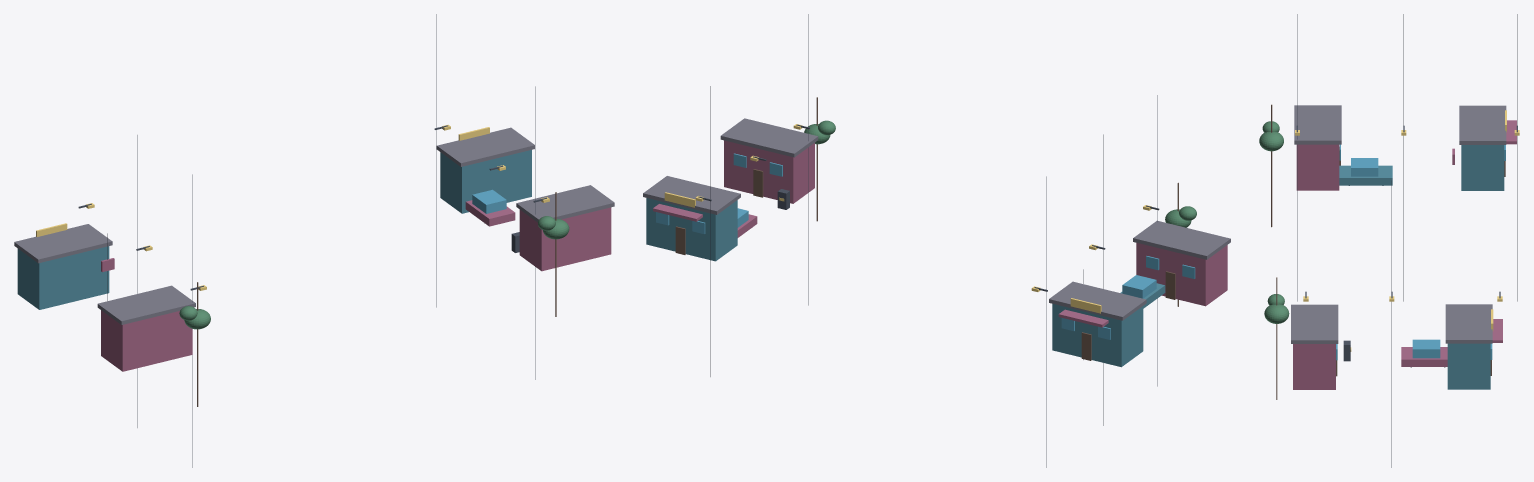
File: yun_street_block_noche_v1.glb
3 views of the same model, side by side, from view 1: azimuth 30°, elevation 25°; view 2: azimuth 150°, elevation 25°; view 3: azimuth 270°, elevation 25° (orthographic). The views are drawn at different scales.
Parts seen in each view (by area): view 1: noche_shop_left__body, noche_build_left__body, noche_build_right__body, noche_shop_right__body, noche_shop_left__roof, noche_shop_right__roof, noche_build_left__roof, noche_build_right__roof, noche_car_right__chassis, noche_car_right__cabin; view 2: noche_build_right__body, noche_shop_right__body, noche_shop_left__body, noche_build_left__body, noche_build_right__roof, noche_build_left__roof, noche_shop_left__roof, noche_shop_right__roof, noche_car_left__cabin; view 3: noche_shop_right__body, noche_build_left__body, noche_shop_left__body, noche_build_right__body, noche_build_right__roof, noche_build_left__roof, noche_shop_right__roof, noche_shop_left__roof, noche_car_left__chassis, noche_car_right__chassis, noche_car_right__cabin, noche_car_left__cabin (+2 smaller).
Part boxes in pixels (<box>): noche_shop_left__body: <box>17,246,109,309</box>; noche_build_left__body: <box>101,310,192,371</box>; noche_build_right__body: <box>519,207,611,271</box>; noche_shop_right__body: <box>440,150,531,213</box>; noche_shop_left__roof: <box>14,224,112,263</box>; noche_shop_right__roof: <box>436,127,534,166</box>; noche_build_left__roof: <box>97,285,195,324</box>; noche_build_right__roof: <box>516,185,614,222</box>; noche_car_right__chassis: <box>465,200,515,226</box>; noche_car_right__cabin: <box>472,189,506,213</box>; noche_build_right__body: <box>724,140,814,203</box>; noche_shop_right__body: <box>646,198,737,261</box>; noche_shop_left__body: <box>1052,303,1143,367</box>; noche_build_left__body: <box>1136,242,1227,306</box>; noche_build_right__roof: <box>720,118,818,157</box>; noche_build_left__roof: <box>1133,220,1230,259</box>; noche_shop_left__roof: <box>1049,281,1146,320</box>; noche_shop_right__roof: <box>643,176,740,214</box>; noche_car_left__cabin: <box>1122,275,1156,298</box>; noche_shop_right__body: <box>1447,343,1490,389</box>; noche_build_left__body: <box>1296,144,1339,190</box>; noche_shop_left__body: <box>1461,145,1504,190</box>; noche_build_right__body: <box>1293,344,1335,389</box>; noche_build_right__roof: <box>1291,304,1338,343</box>; noche_build_left__roof: <box>1294,105,1341,144</box>; noche_shop_right__roof: <box>1445,304,1492,343</box>; noche_shop_left__roof: <box>1459,105,1506,144</box>; noche_car_left__chassis: <box>1339,165,1392,185</box>; noche_car_right__chassis: <box>1401,347,1447,366</box>; noche_car_right__cabin: <box>1412,339,1440,358</box>; noche_car_left__cabin: <box>1351,158,1378,176</box>.
Bounding box in the file's own units: 32.4 × 18.49 × 15.17.
